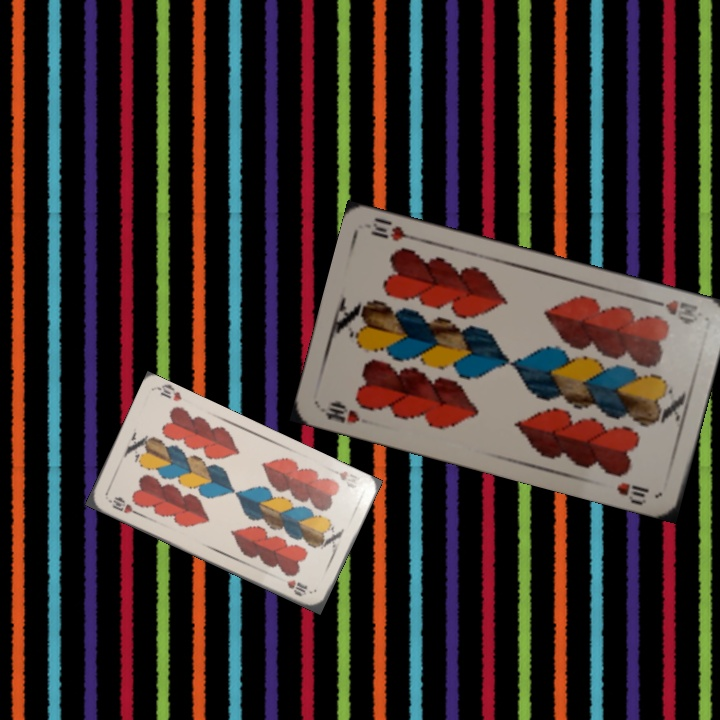H10: (646, 295, 705, 326), (321, 397, 362, 426), (104, 493, 142, 517), (326, 464, 359, 491)
